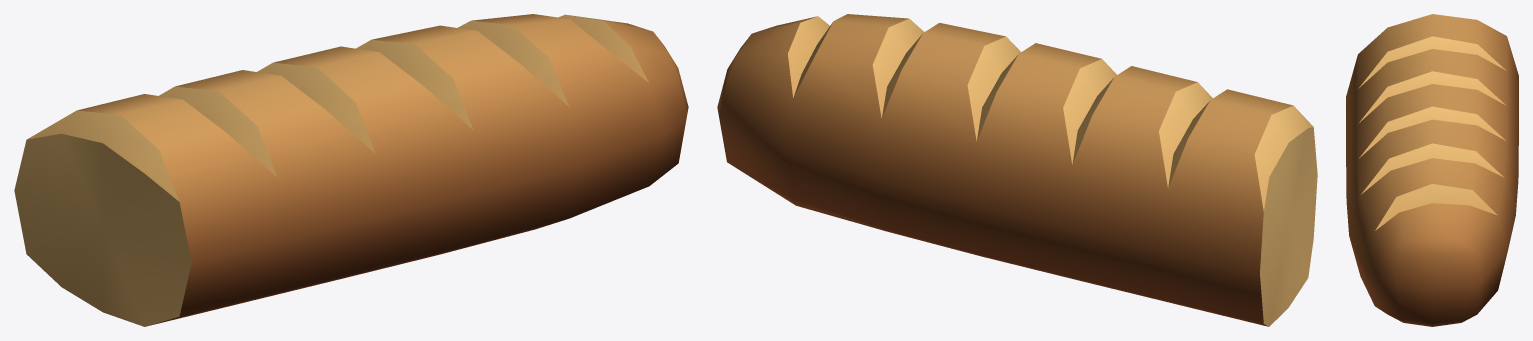
Rendered from Baguette_Half.glb.
3 views of the same model, side by side, from view 1: azimuth 30°, elevation 25°; view 2: azimuth 150°, elevation 25°; view 3: azimuth 270°, elevation 25° (orthographic). The views are drawn at different scales.
Parts seen in each view (by area): view 1: Baguette_Half; view 2: Baguette_Half; view 3: Baguette_Half.
Boxes of the visible parts, bbox=[...] form: Baguette_Half: bbox=[14, 14, 688, 326]; Baguette_Half: bbox=[717, 14, 1317, 326]; Baguette_Half: bbox=[1346, 14, 1518, 326].
Size of the model in its own units: 0.7356 by 0.2252 by 0.2501.
1 material, 1 textured.
